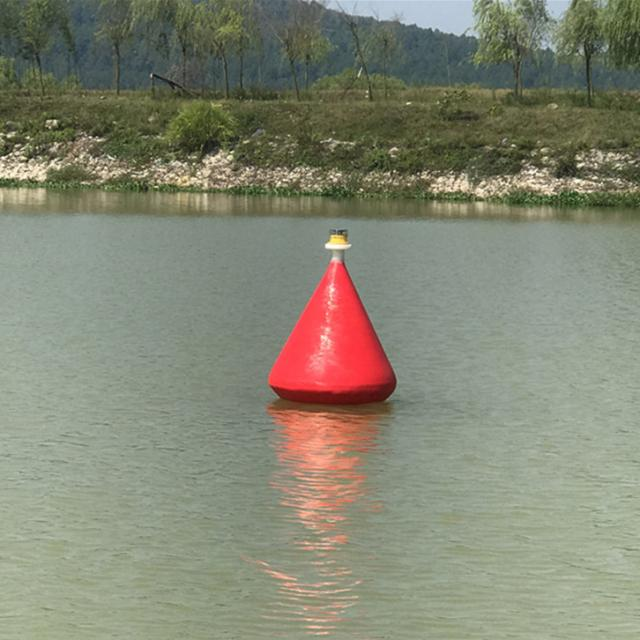buoy: (264, 227, 401, 410)
